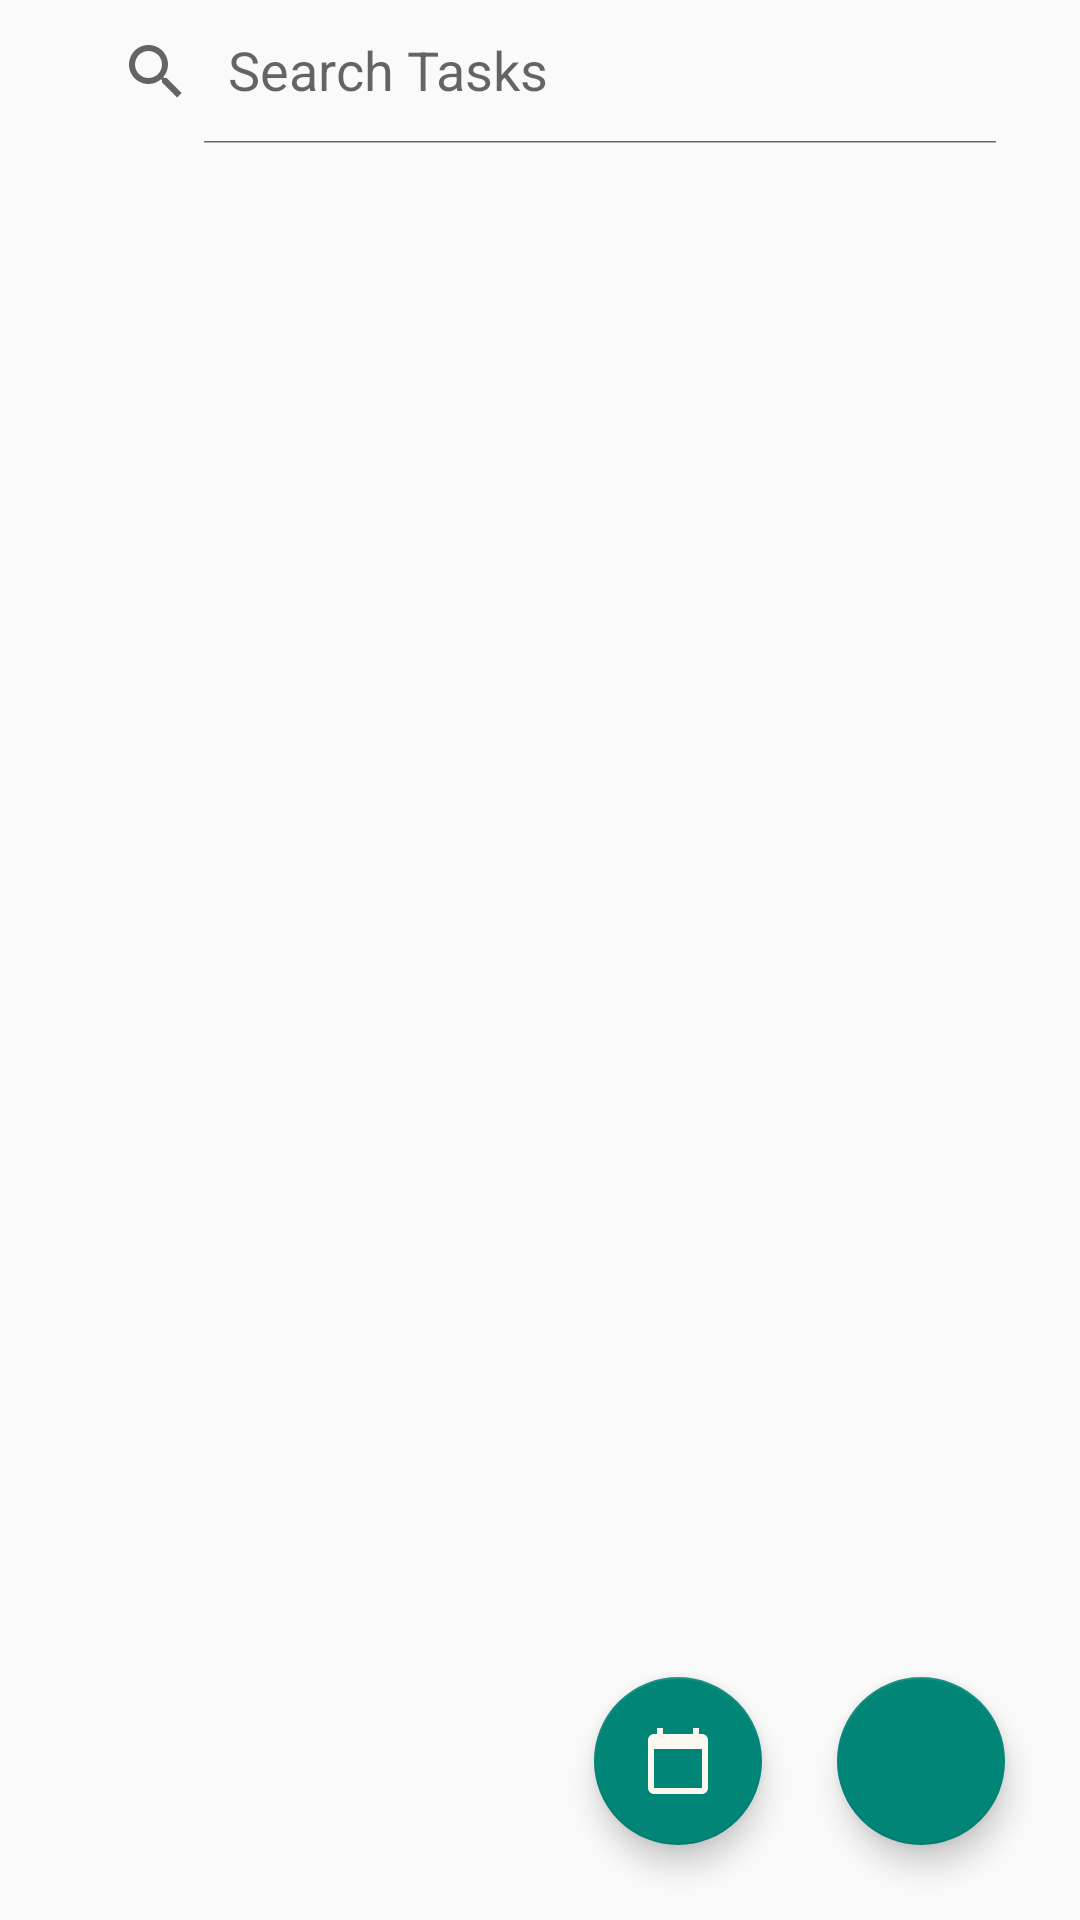

Named icons in this screenshot (1080px×1920px) and their centers, (x=x, y=y):
calendar today: (x=678, y=1761)
